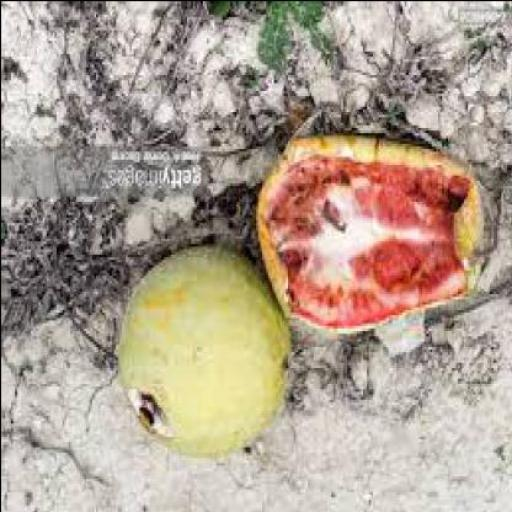biodegradable: (258, 135, 482, 335), (120, 248, 295, 454)
